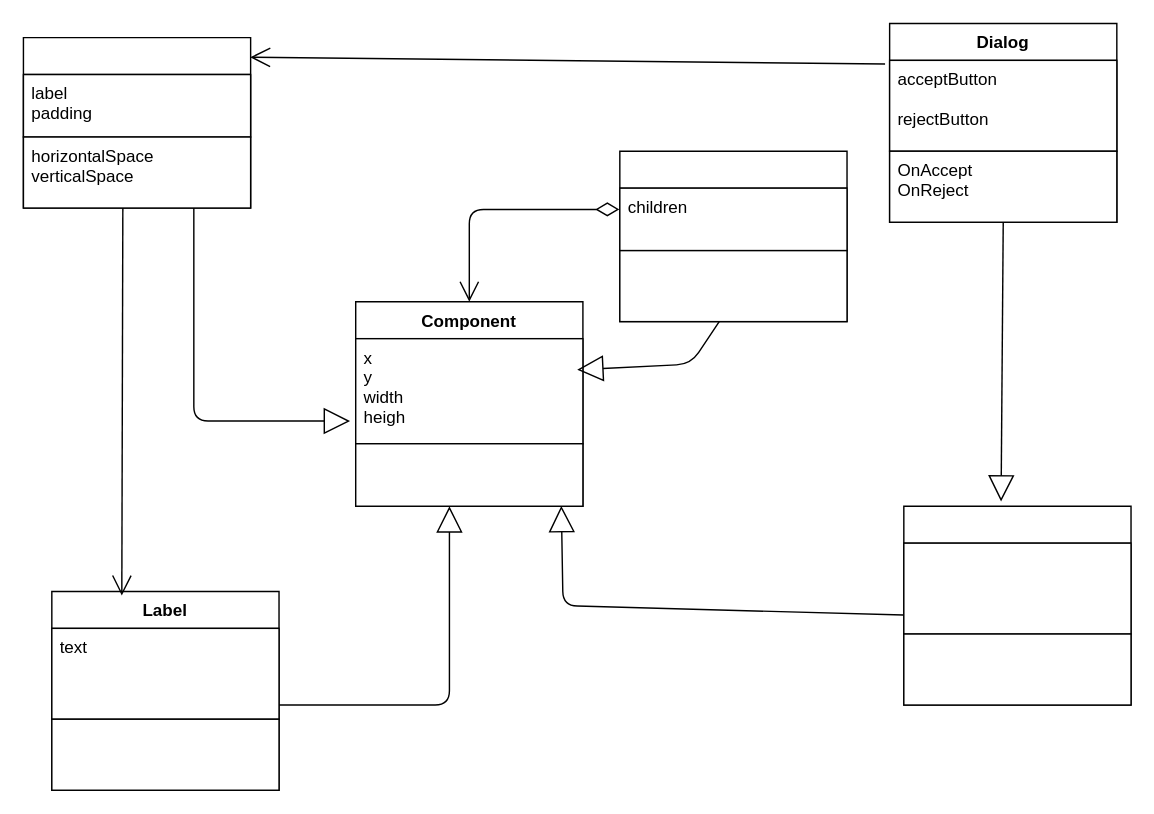
Image size: 1154x814. Some labels were removed from this diagram. Each missing label, with the box of its shape:
addChild: (618, 249, 847, 322)
Button: (22, 36, 251, 208)
clearlower upper: (50, 718, 279, 790)
Container: (618, 150, 847, 322)
Window: (902, 505, 1131, 705)
